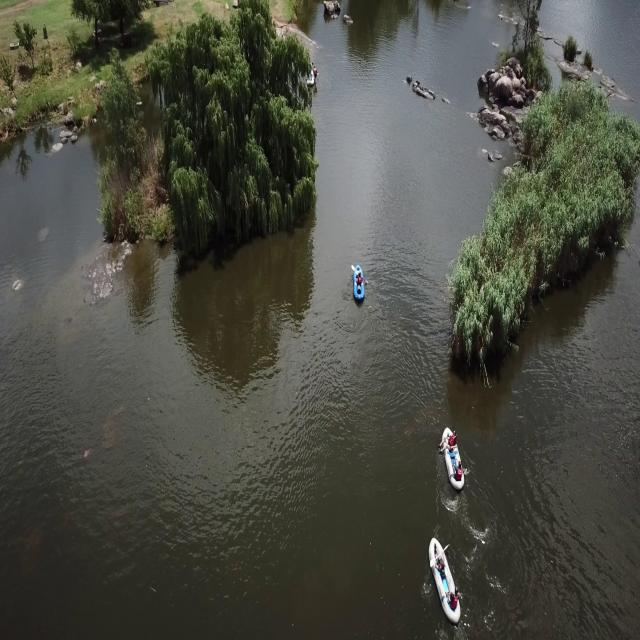kayak: (427, 528, 463, 627), (439, 430, 465, 487), (350, 266, 368, 306)
